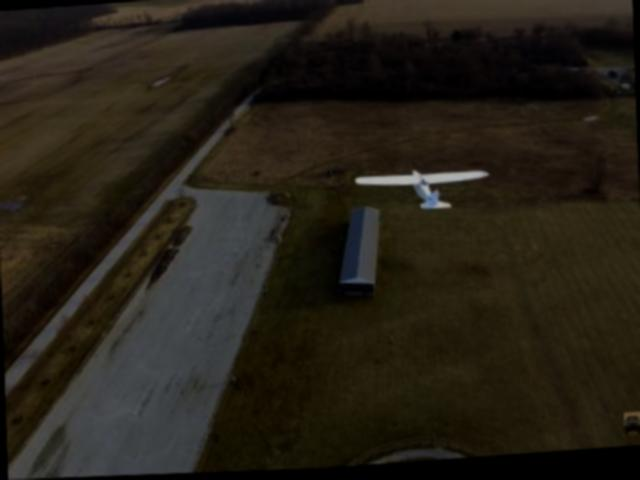uav: (344, 156, 498, 221)
